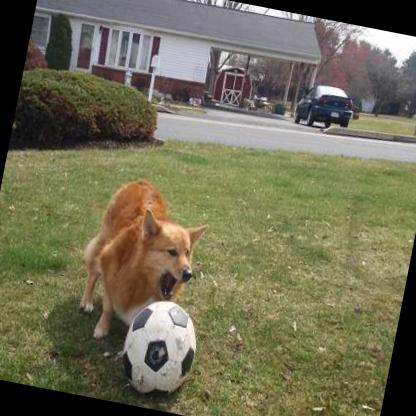ball: (115, 294, 204, 404)
